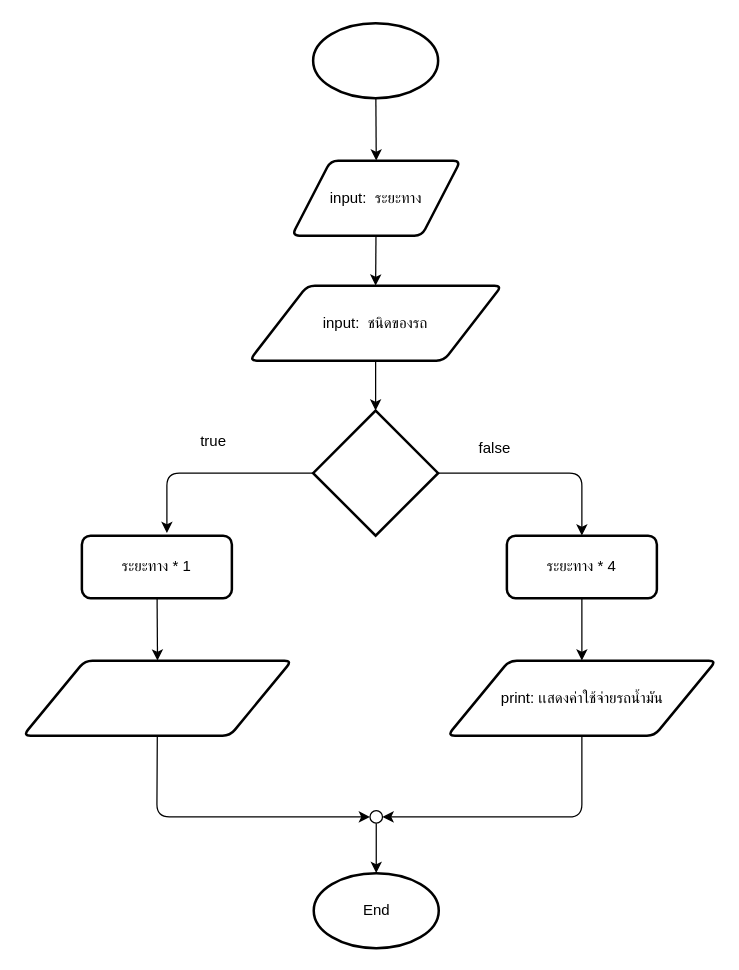
Image size: 739x970. Some labels were removed from this diagram. Here are the shapes that lost their labels. From the top down, the box of each, then its label:
(311, 21, 439, 99): start
(311, 409, 439, 536): if: ถ้าเป็นรถไฟฟ้า
(21, 659, 292, 736): print: เเสดงค่าใช้จ่ายรถไฟฟ้า
